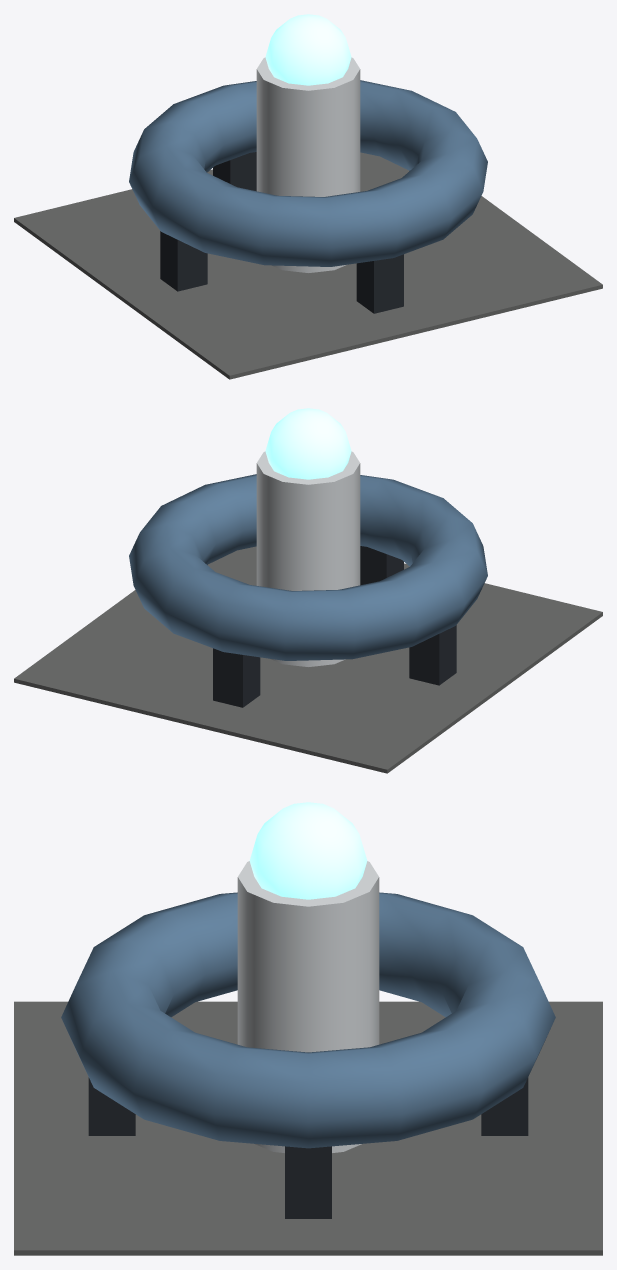
File: bld_special_power_plant_a09.glb
3 views of the same model, one above another, from view 1: azimuth 30°, elevation 25°; view 2: azimuth 150°, elevation 25°; view 3: azimuth 270°, elevation 25° (orthographic). The views are drawn at different scales.
Parts seen in each view (by area): view 1: body; view 2: body; view 3: body.
Boxes of the visible parts, bbox=[...] form: body: bbox=[14, 14, 602, 379]; body: bbox=[14, 408, 602, 773]; body: bbox=[14, 802, 602, 1255].
Size of what is drawn, in the model's own units: 15 by 9.1 by 15.
